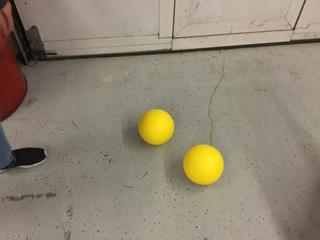power_cell: (134, 105, 180, 153), (181, 140, 225, 187)
